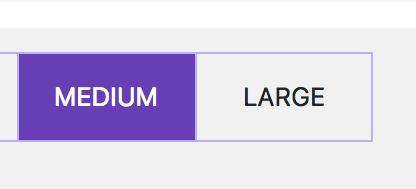button: (15, 50, 198, 144), (194, 52, 372, 142)
